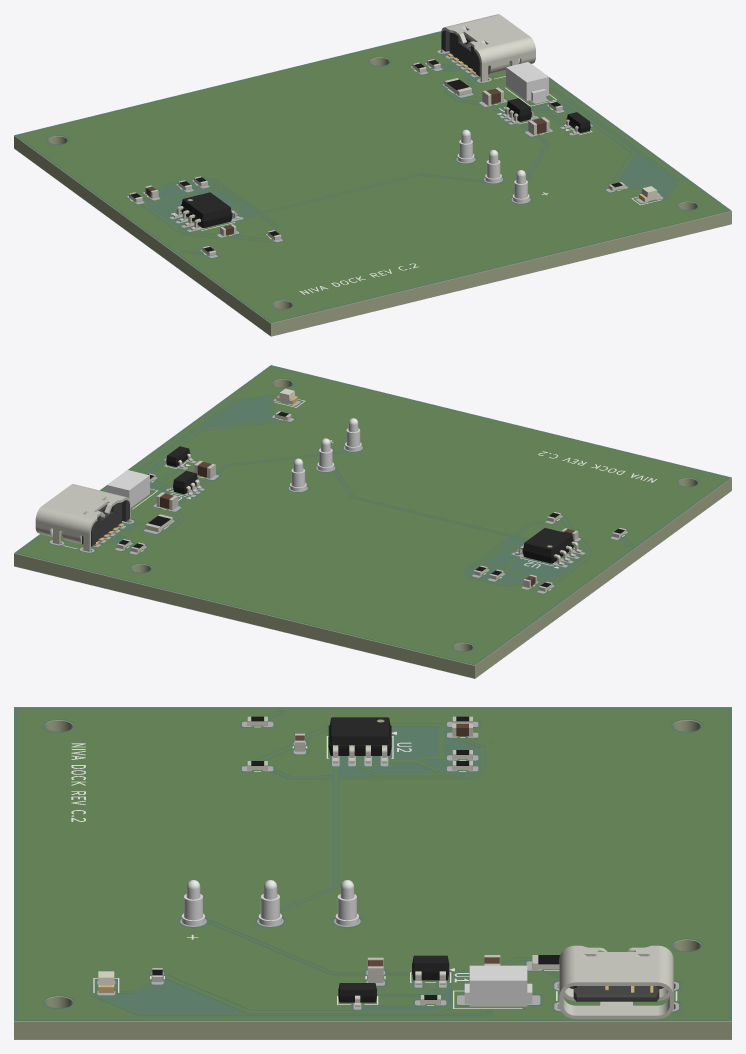
Rendered from NIVA-dock-PCBA.glb.
The picture shows the model from 3 angles, top to bottom: view 1: azimuth 30°, elevation 25°; view 2: azimuth 150°, elevation 25°; view 3: azimuth 270°, elevation 25°; orthographic projection. The views are drawn at different scales.
Parts seen in each view (by area): view 1: =>[0:1:1:29], =>[0:1:1:24], =>[0:1:1:31], =>[0:1:1:15], =>[0:1:1:21], =>[0:1:1:7], =>[0:1:1:13], =>[0:1:1:25], =>[0:1:1:30], =>[0:1:1:27], =>[0:1:1:23]; view 2: =>[0:1:1:29], =>[0:1:1:24], =>[0:1:1:31], =>[0:1:1:15], =>[0:1:1:21], =>[0:1:1:7], =>[0:1:1:25], =>[0:1:1:13], =>[0:1:1:30], =>[0:1:1:27], =>[0:1:1:23]; view 3: =>[0:1:1:29], =>[0:1:1:24], =>[0:1:1:31], =>[0:1:1:15], =>[0:1:1:13], =>[0:1:1:21], =>[0:1:1:7], =>[0:1:1:25], =>[0:1:1:27], =>[0:1:1:23], =>[0:1:1:17], =>[0:1:1:30].
Boxes of the visible parts, x1,y1,x2,y2 form: =>[0:1:1:29]: (14, 31, 731, 323); =>[0:1:1:24]: (18, 33, 727, 321); =>[0:1:1:31]: (14, 32, 731, 336); =>[0:1:1:15]: (441, 14, 535, 81); =>[0:1:1:21]: (173, 192, 240, 230); =>[0:1:1:7]: (457, 129, 529, 202); =>[0:1:1:13]: (506, 62, 548, 101); =>[0:1:1:25]: (127, 49, 662, 257); =>[0:1:1:30]: (15, 149, 731, 336); =>[0:1:1:27]: (130, 66, 662, 294); =>[0:1:1:23]: (502, 98, 535, 123); =>[0:1:1:29]: (14, 365, 731, 665); =>[0:1:1:24]: (18, 367, 727, 663); =>[0:1:1:31]: (14, 366, 731, 678); =>[0:1:1:15]: (35, 484, 130, 551); =>[0:1:1:21]: (515, 528, 581, 565); =>[0:1:1:7]: (290, 418, 361, 491); =>[0:1:1:25]: (49, 398, 627, 593); =>[0:1:1:13]: (107, 470, 149, 507); =>[0:1:1:30]: (14, 491, 731, 678); =>[0:1:1:27]: (63, 399, 656, 590); =>[0:1:1:23]: (168, 470, 201, 495); =>[0:1:1:29]: (14, 707, 731, 1021); =>[0:1:1:24]: (18, 709, 727, 1019); =>[0:1:1:31]: (14, 708, 731, 1039); =>[0:1:1:15]: (559, 945, 673, 1019); =>[0:1:1:13]: (464, 965, 532, 1006); =>[0:1:1:21]: (328, 717, 391, 763); =>[0:1:1:7]: (181, 880, 358, 925); =>[0:1:1:25]: (97, 722, 678, 1011); =>[0:1:1:27]: (71, 726, 677, 1008); =>[0:1:1:23]: (412, 955, 449, 984); =>[0:1:1:17]: (338, 983, 376, 1006); =>[0:1:1:30]: (14, 1039, 731, 1039).
Size of the model in its own units: 0.058 by 0.00515 by 0.056.
